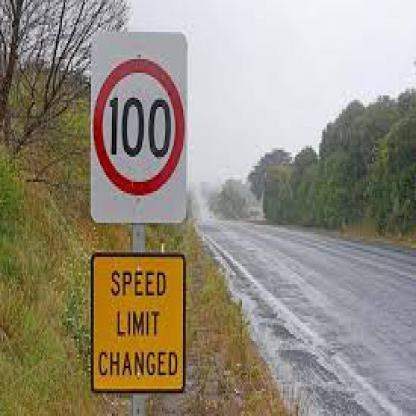Speed Limit 100: (96, 59, 182, 193)
